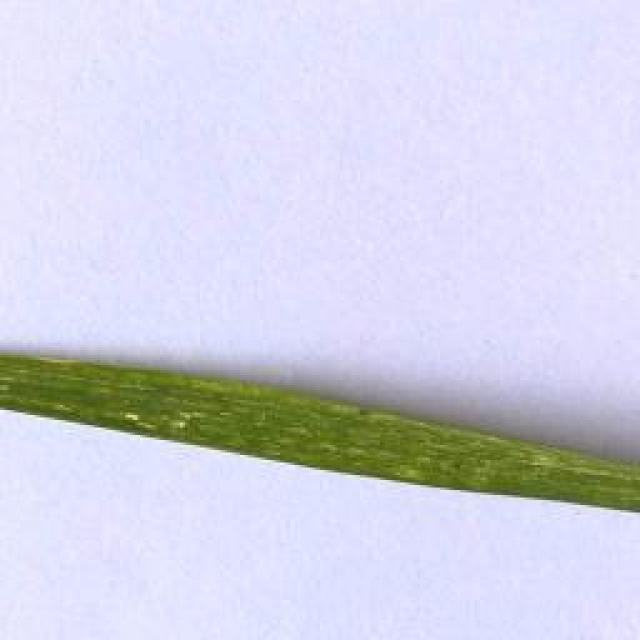Healthy-Plant: (0, 356, 640, 514)
